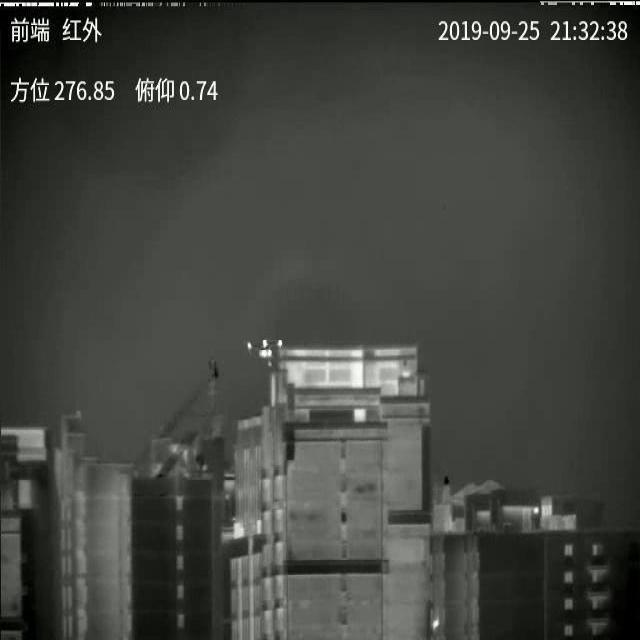drone: (247, 339, 283, 368)
